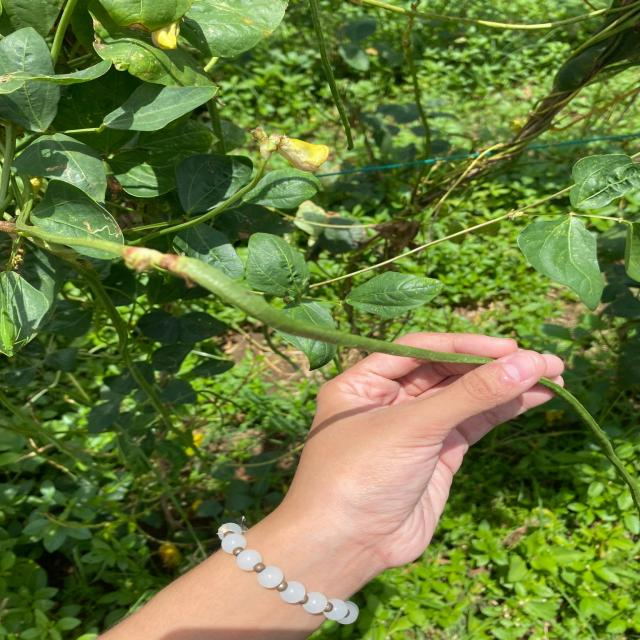10: (116, 245, 492, 366), (538, 379, 635, 485)
leaf-low: (0, 27, 65, 132), (103, 83, 218, 132), (245, 233, 310, 301)
sitaw-aphid-high: (91, 12, 215, 87), (517, 216, 605, 310), (31, 180, 124, 260), (181, 0, 288, 58), (346, 271, 442, 318)
sitaw-aphid-low: (569, 154, 640, 209)
